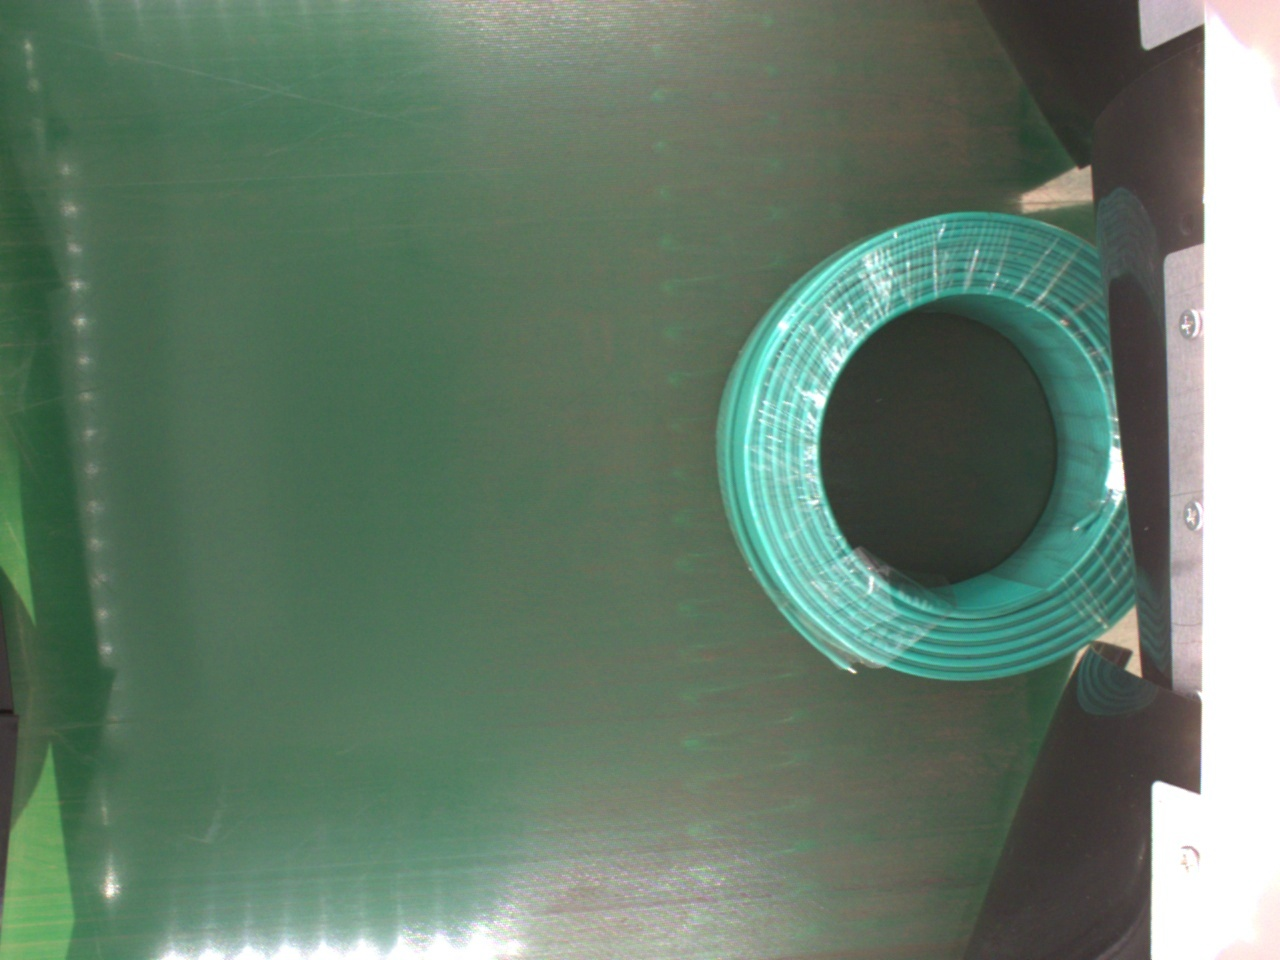green: (719, 208, 1142, 680)
